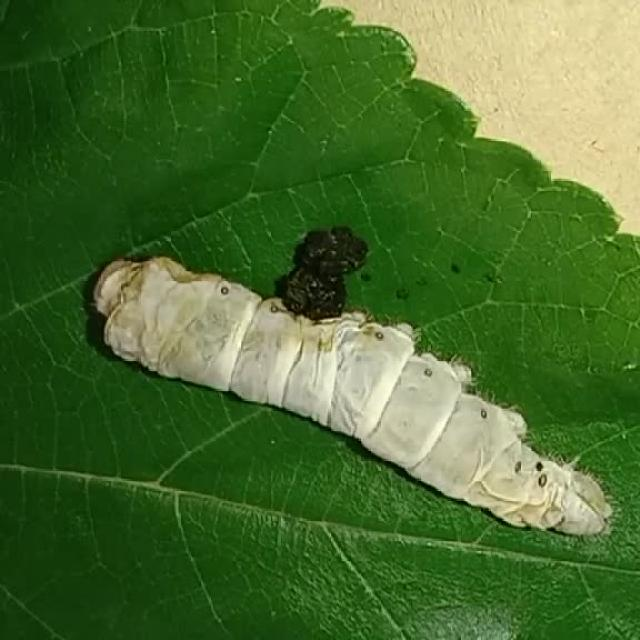Grasserie: (68, 163, 624, 608)
